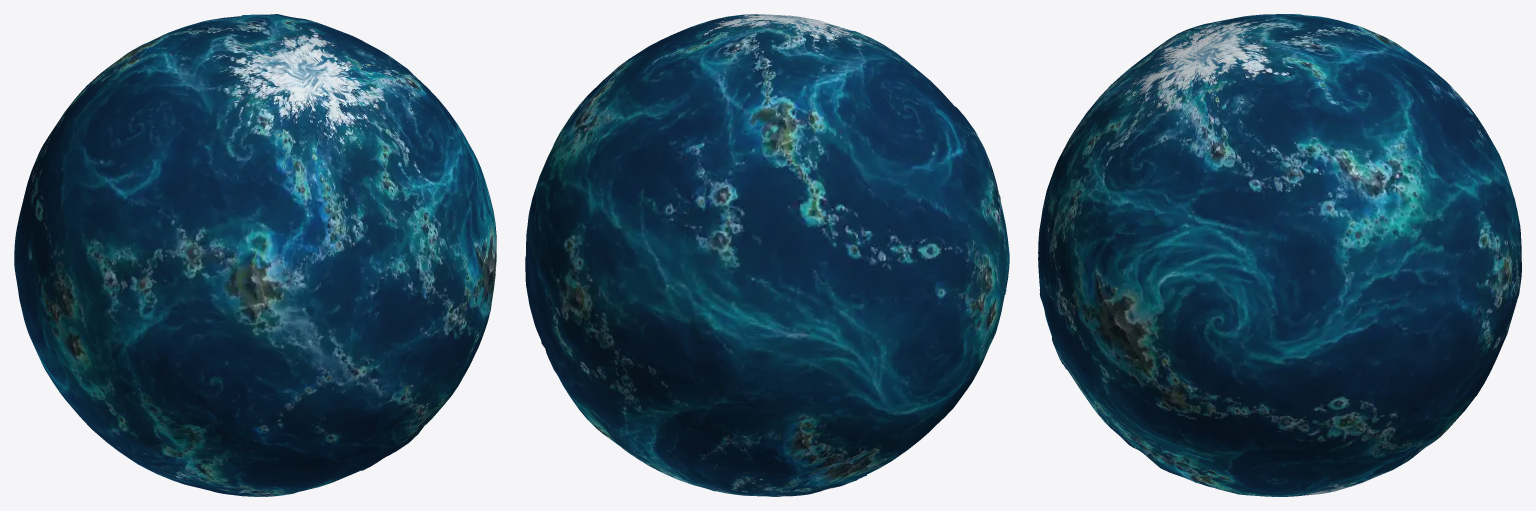
File: planet_6.glb
3 renders of one model, left to right at view 1: azimuth 30°, elevation 25°; view 2: azimuth 150°, elevation 25°; view 3: azimuth 270°, elevation 25°, orthographic.
Visible parts, largest first — view 1: Mesh_0.001; view 2: Mesh_0.001; view 3: Mesh_0.001.
Boxes of the visible parts, x1,y1,x2,y2 form: Mesh_0.001: [14, 14, 496, 496]; Mesh_0.001: [525, 14, 1009, 496]; Mesh_0.001: [1038, 14, 1521, 496].
Size of the model in its own units: 1.9 by 1.9 by 1.9.
1 material, 1 textured.
